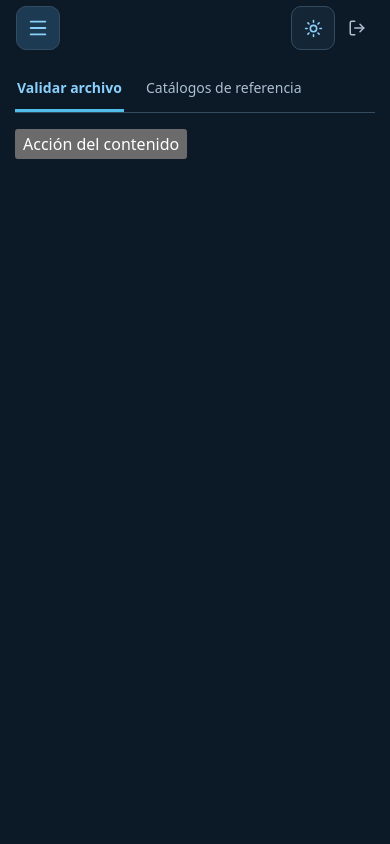
Test: Navegación del espacio de trabajo › el fondo del drawer permite cerrarlo sin activar el contenido
Click the button named "Abrir navegación": (38,28) [16,6,60,50]
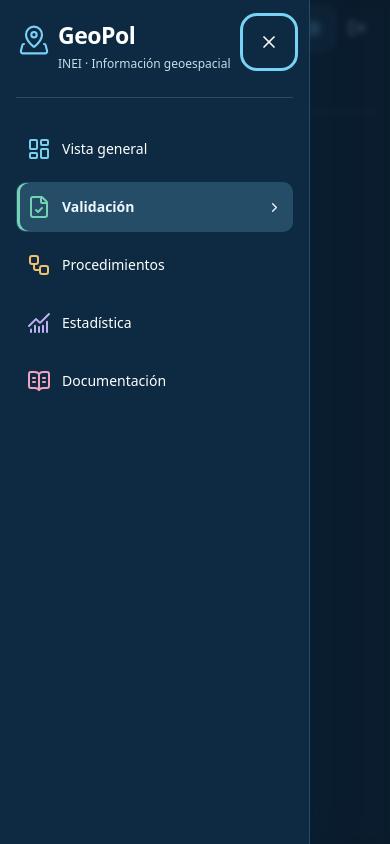
Now the 1st button named "Cerrar navegación" is shown
Click the 1st button named "Cerrar navegación": (367,422) [0,0,389,843]
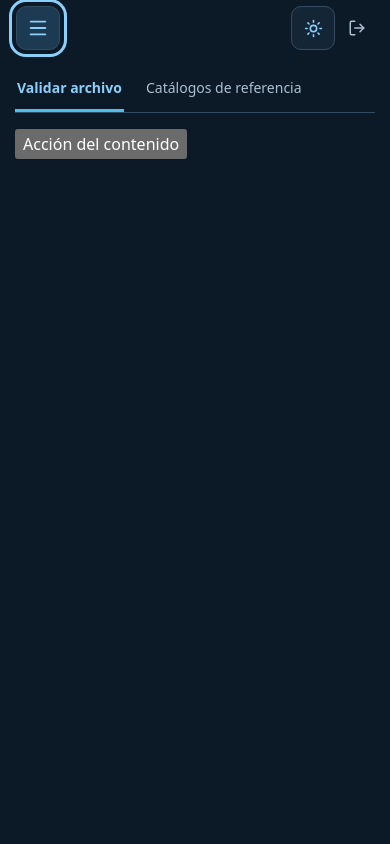
Now the dialog is gone
